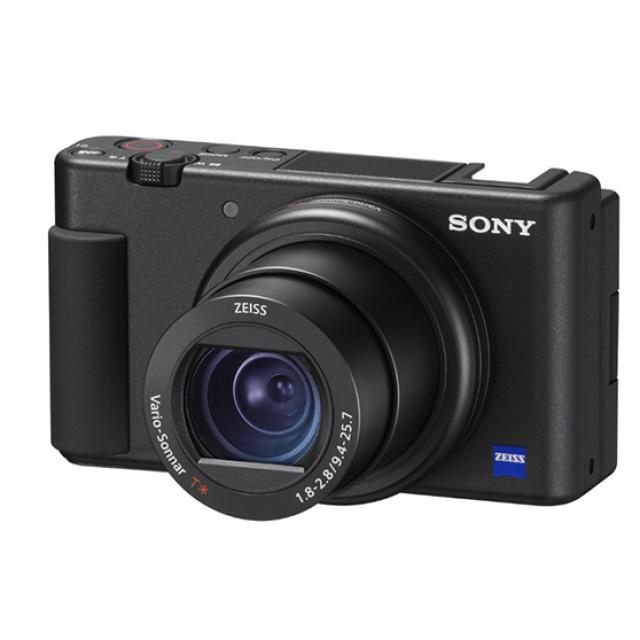hidden camera: (167, 338, 346, 481)
